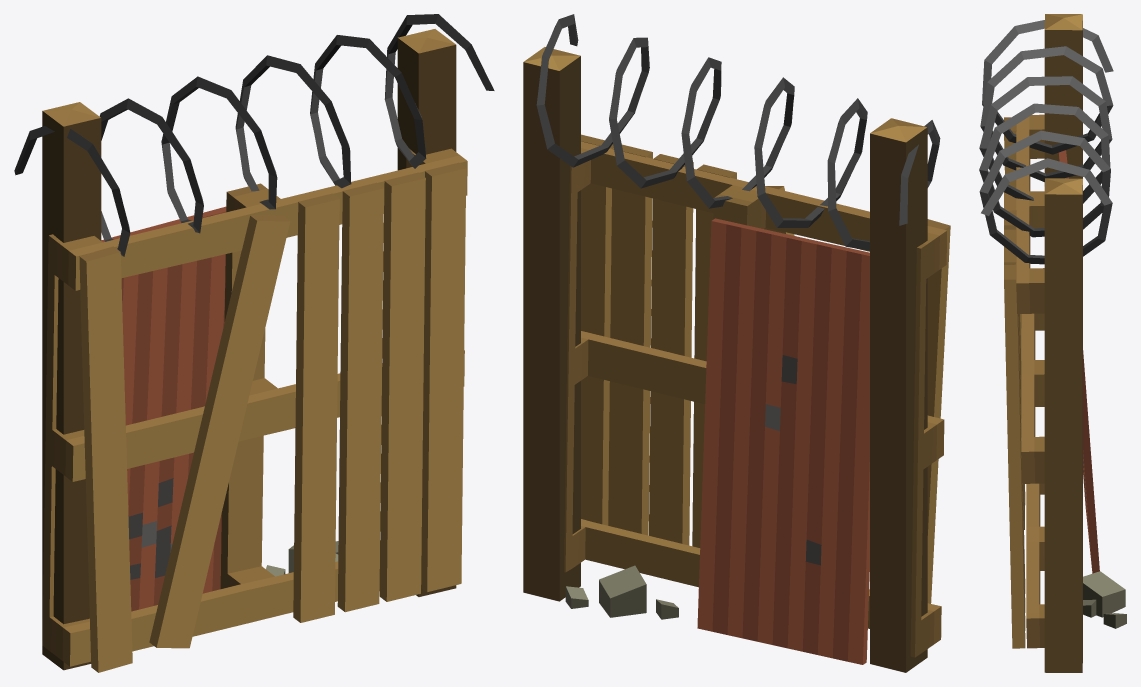
File: FenceSmall_04.fbx
The picture shows the model from 3 angles, left to right: view 1: azimuth 30°, elevation 25°; view 2: azimuth 150°, elevation 25°; view 3: azimuth 270°, elevation 25°; orthographic projection. The views are drawn at different scales.
Parts seen in each view (by area): view 1: FenceSmall_04; view 2: FenceSmall_04; view 3: FenceSmall_04.
Part boxes in pixels (x1,y1,x2,y2): FenceSmall_04: [14, 14, 494, 672]; FenceSmall_04: [523, 14, 950, 672]; FenceSmall_04: [979, 14, 1126, 672].
Size of the model in its own units: 3.09 by 1.09 by 4.14.
